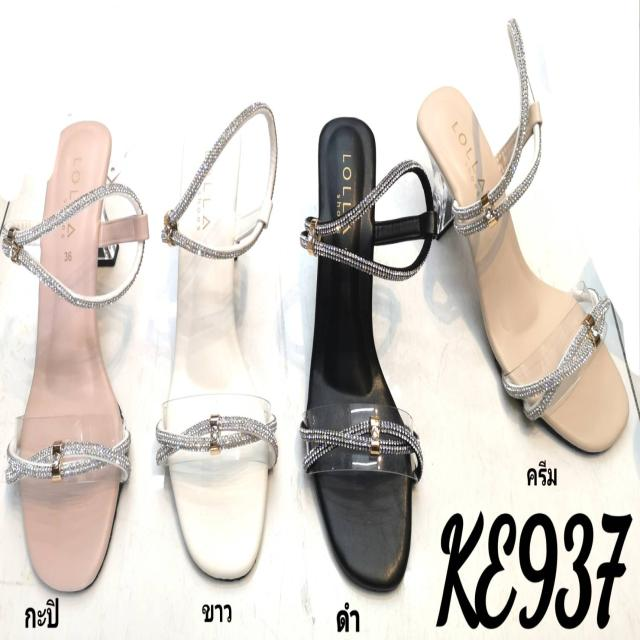black: (306, 117, 413, 588)
cream: (415, 84, 631, 463)
kapi: (19, 121, 126, 586)
white: (164, 116, 270, 582)
